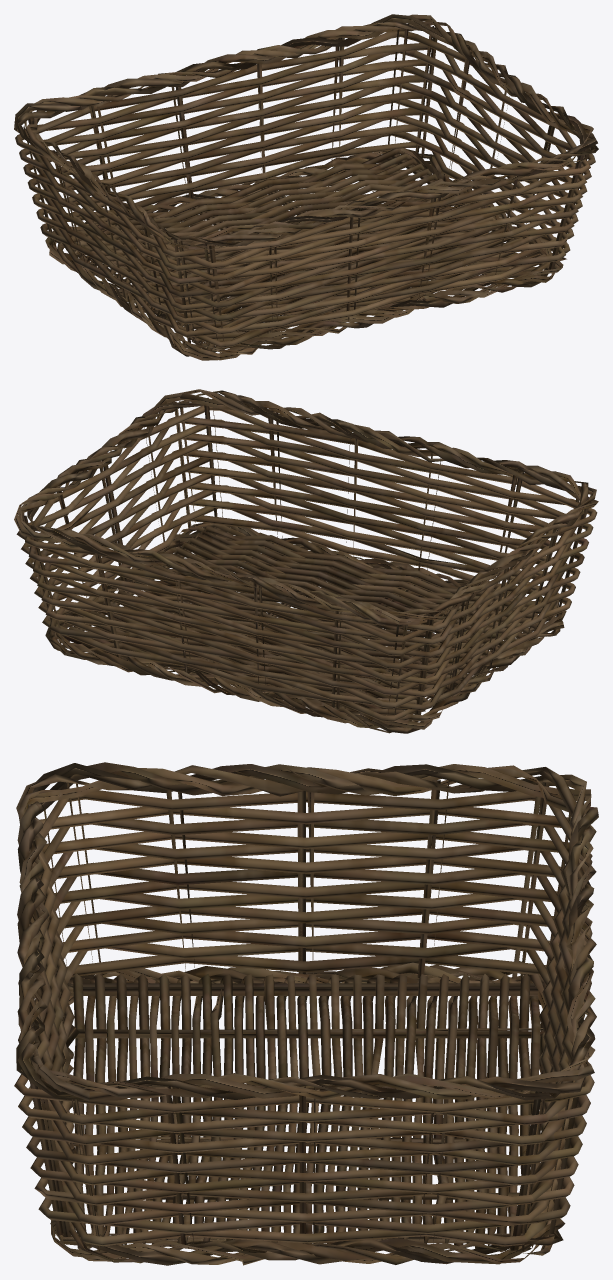
File: wicker_basket_01.6b7422d3.glb
3 views of the same model, one above another, from view 1: azimuth 30°, elevation 25°; view 2: azimuth 150°, elevation 25°; view 3: azimuth 270°, elevation 25° (orthographic). The views are drawn at different scales.
Visible parts, largest first — view 1: wicker_basket_01; view 2: wicker_basket_01; view 3: wicker_basket_01.
Boxes of the visible parts, box(x1,y1,x2,y2) form: wicker_basket_01: box(14, 14, 598, 360); wicker_basket_01: box(14, 389, 598, 733); wicker_basket_01: box(14, 762, 598, 1265).
Size of the model in its own units: 0.9382 by 0.2876 by 0.72.
1 material, 1 textured.
